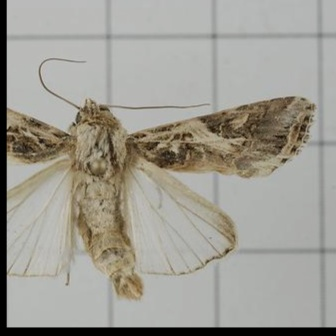Spodoptera litura: (7, 58, 317, 300)
